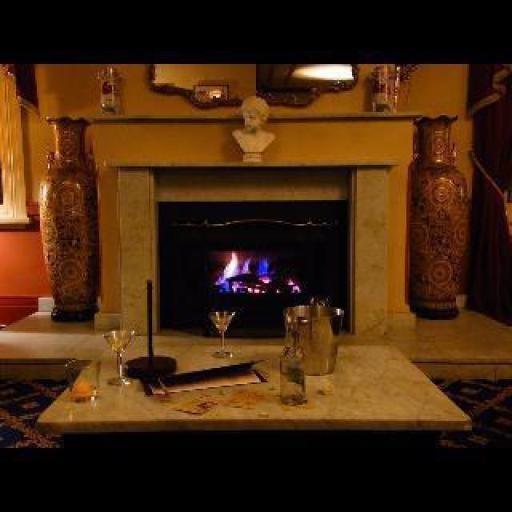smoke: (156, 170, 350, 334)
